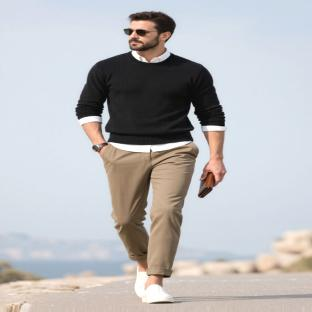Human: (76, 12, 226, 302)
